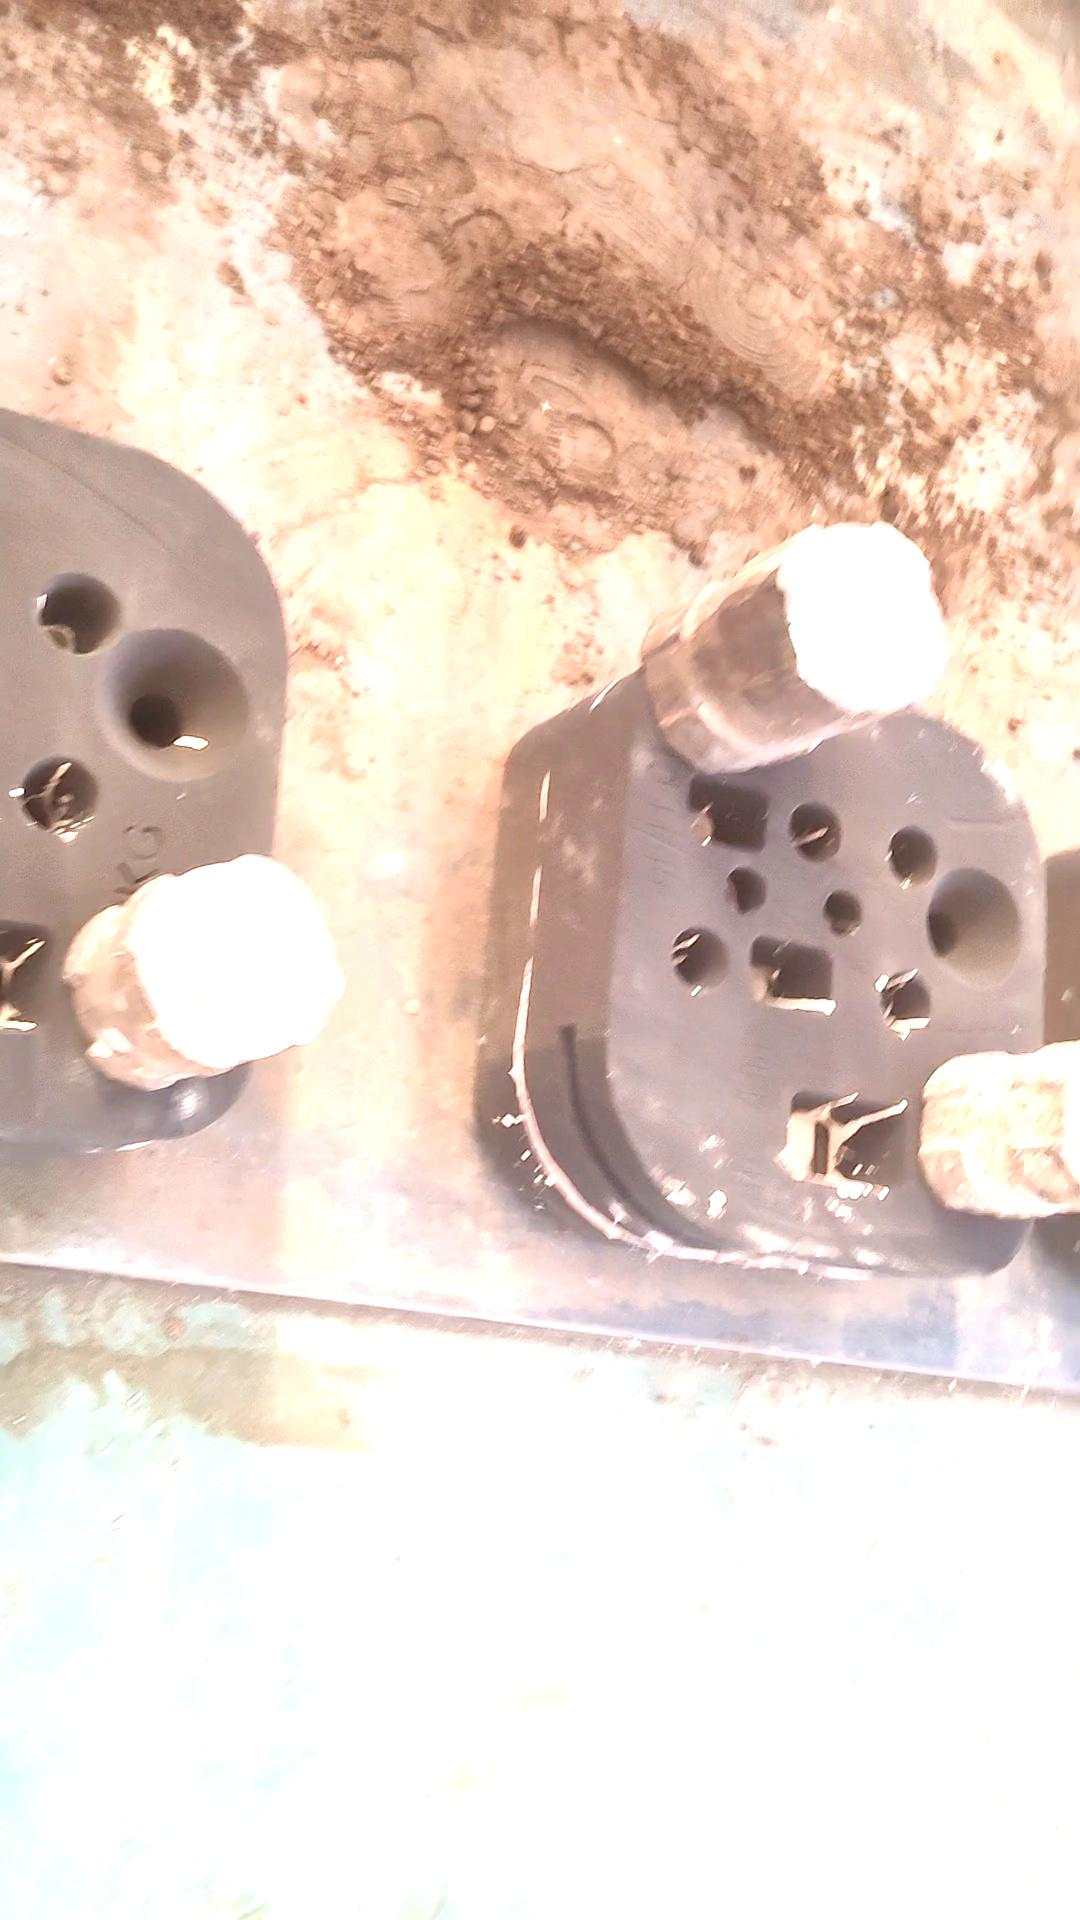pouring hole: (94, 626, 247, 781), (926, 866, 1025, 989)
